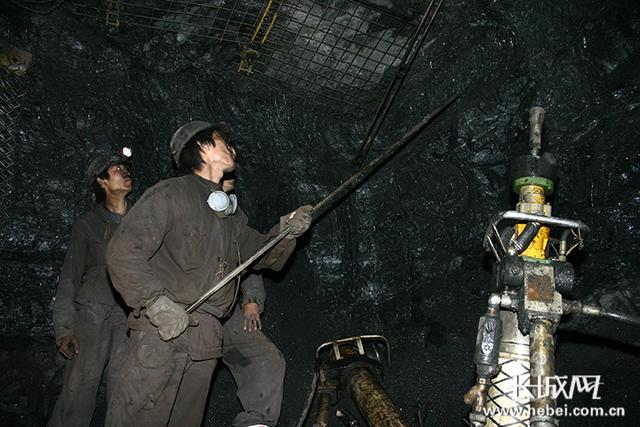device: (104, 119, 312, 427), (52, 150, 131, 424), (221, 273, 282, 426)
